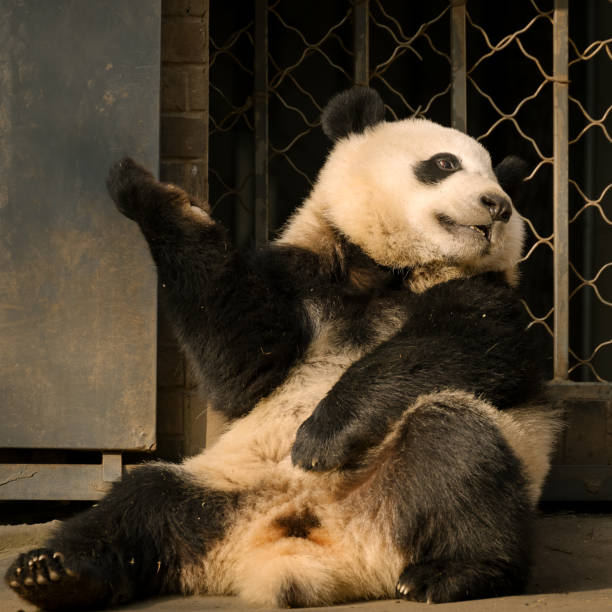panda: (317, 90, 543, 348)
